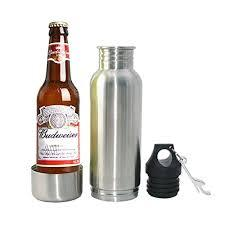Glass bottle: (34, 9, 81, 171)
